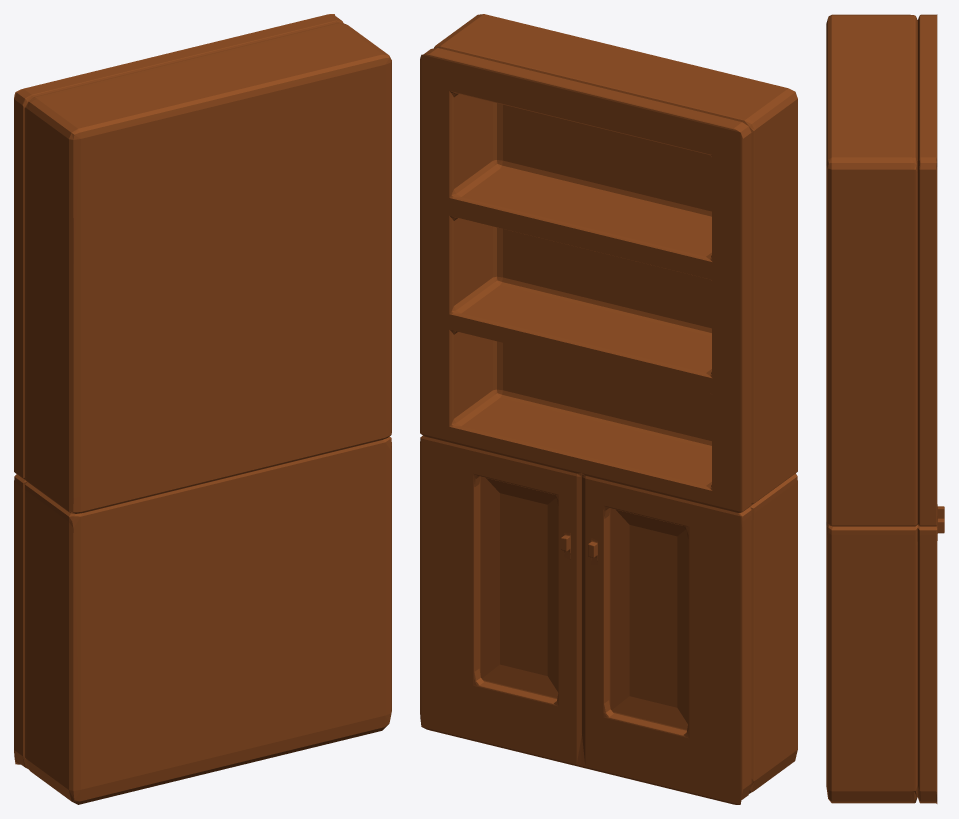
The model's file is SM_Shelve.fbx.
The picture shows the model from 3 angles, left to right: view 1: azimuth 30°, elevation 25°; view 2: azimuth 150°, elevation 25°; view 3: azimuth 270°, elevation 25°; orthographic projection. The views are drawn at different scales.
Visible parts, largest first — view 1: SM_Shelve; view 2: SM_Shelve; view 3: SM_Shelve.
Part boxes in pixels (bbox=[...]): SM_Shelve: bbox=[14, 14, 391, 804]; SM_Shelve: bbox=[420, 14, 797, 804]; SM_Shelve: bbox=[826, 14, 944, 803].
Bounding box in the file's own units: 400 × 800 × 133.
